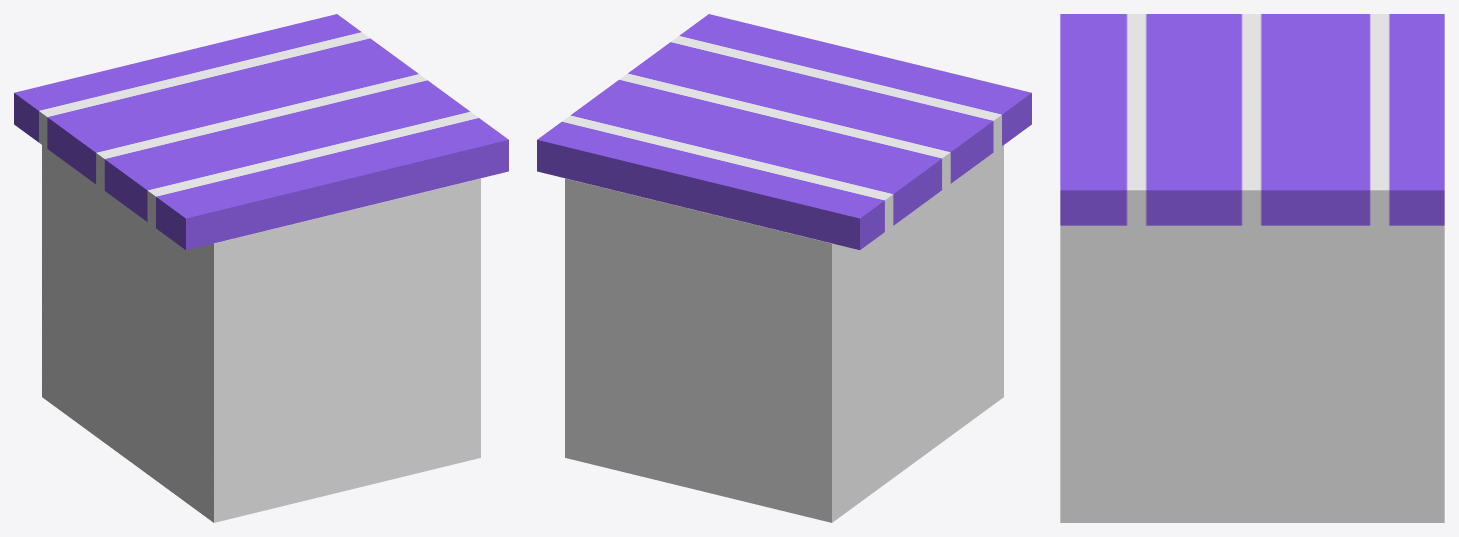
Rendered from sushi_mid.fbx.
3 views of the same model, side by side, from view 1: azimuth 30°, elevation 25°; view 2: azimuth 150°, elevation 25°; view 3: azimuth 270°, elevation 25° (orthographic). The views are drawn at different scales.
Visible parts, largest first — view 1: Cylinder.002; view 2: Cylinder.002; view 3: Cylinder.002.
Part boxes in pixels (x1,y1,x2,y2): Cylinder.002: (14,14,508,522); Cylinder.002: (537,14,1031,522); Cylinder.002: (1060,14,1444,522).
Bounding box in the file's own units: 242 × 223 × 223.
Materials: 1 (1 with a texture image).
